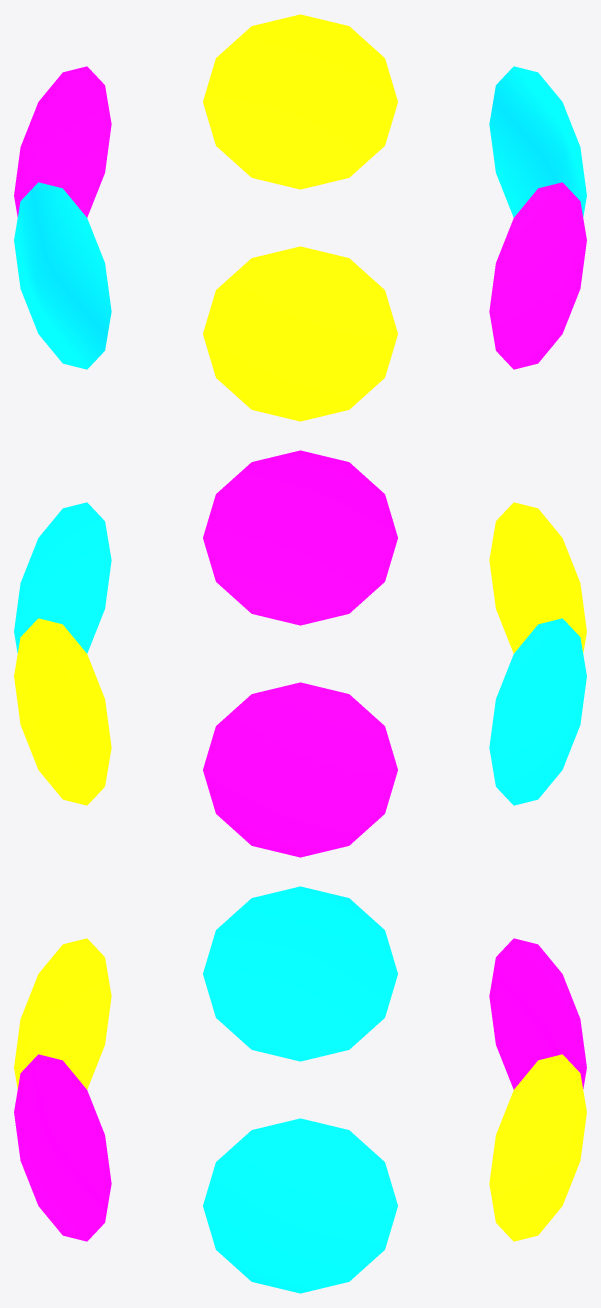
File: HelicopterLightIllum.glb
The picture shows the model from 3 angles, top to bottom: view 1: azimuth 30°, elevation 25°; view 2: azimuth 150°, elevation 25°; view 3: azimuth 270°, elevation 25°; orthographic projection.
Visible parts, largest first — view 1: IllumLights; view 2: IllumLights; view 3: IllumLights.
Boxes of the visible parts, left/top/right/bottom form: IllumLights: left=14, top=14, right=586, bottom=421; IllumLights: left=14, top=450, right=586, bottom=857; IllumLights: left=14, top=886, right=586, bottom=1293.
Bounding box in the file's own units: 1.41 × 0.4482 × 1.33.
